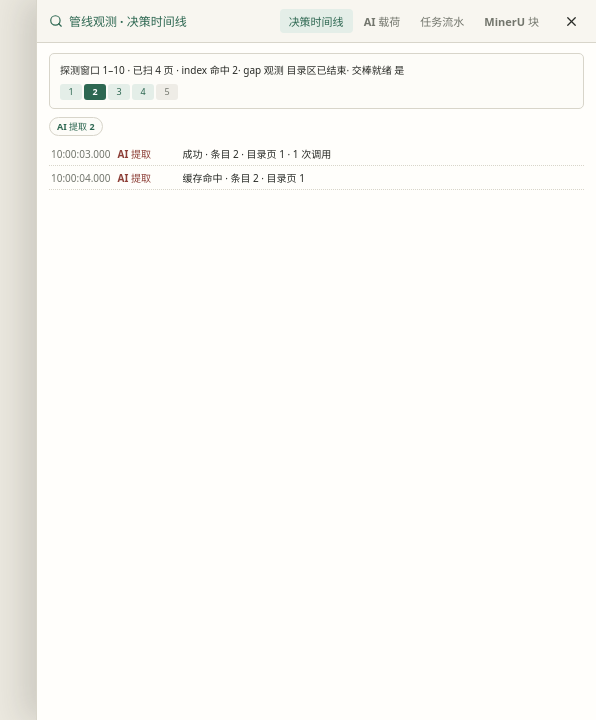
it: PipelineObserverDrawer › renders the ai payload tab with the full prompt, raw response and de-emphasized cache entries
Click the tab "AI 载荷" at point(382, 21), box x1=355 y1=9 x2=409 y2=33
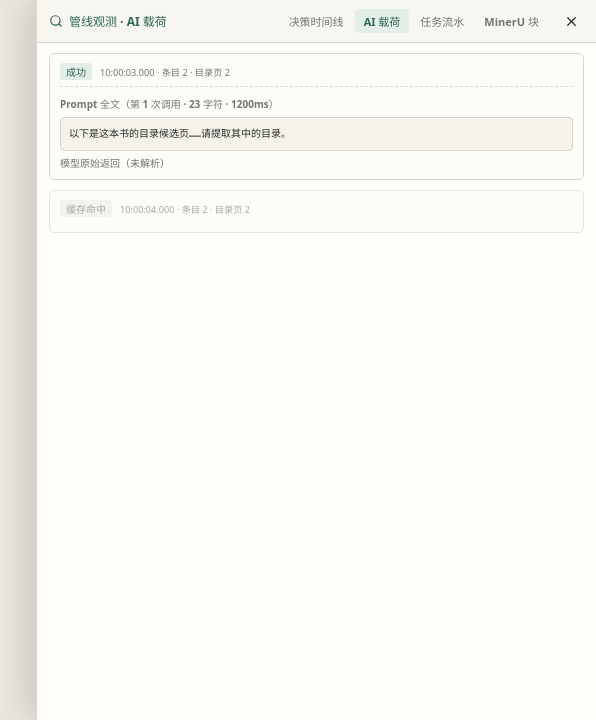
Expected: the text with class "observer-outcome" reads "成功", x1=66 y1=65 x2=86 y2=79
Now the element with class "observer-ai" shows "以下是这本书的目录候选页", box x1=69 y1=128 x2=291 y2=139
Now the element with class "observer-ai" shows "1200ms", box x1=49 y1=53 x2=584 y2=180
